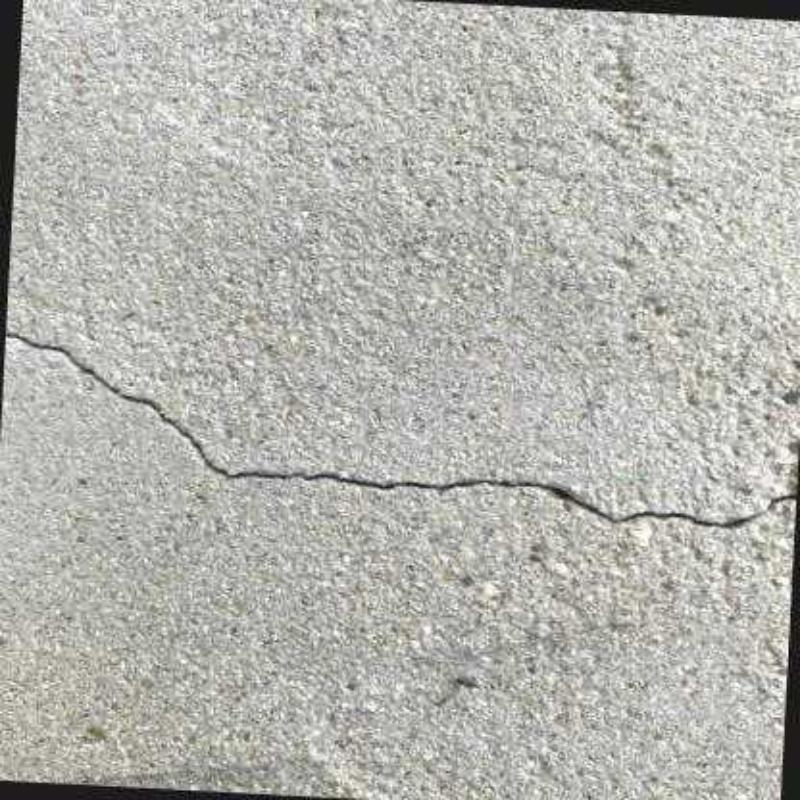pothole: (3, 320, 796, 533)
